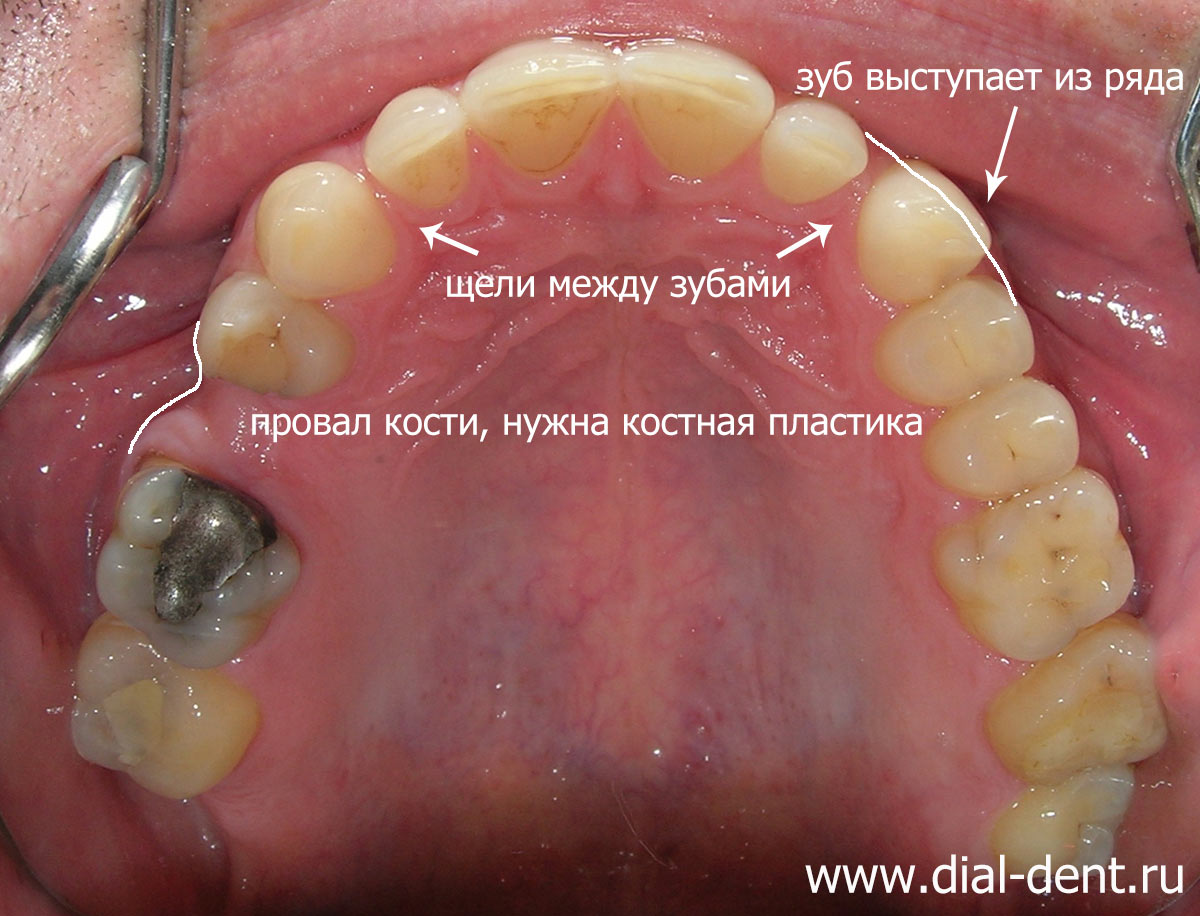UL1BC_healthy: (881, 305, 1036, 402)
UL1M_decay: (945, 479, 1132, 660)
UL2BC_healthy: (933, 382, 1080, 493)
UL2M_decay: (988, 624, 1165, 777)
UL3M_decay: (995, 774, 1134, 852)
ULCI_healthy: (621, 45, 773, 173)
ULC_healthy: (852, 213, 964, 303)
ULLI_healthy: (766, 102, 865, 199)
UR1BC_decay: (205, 277, 344, 391)
UR1M_decay: (100, 468, 291, 665)
UR2BC_decay: (173, 398, 251, 476)
UR2M_decay: (73, 637, 254, 799)
UR3M_decay: (119, 799, 250, 909)
URCI_decay: (465, 40, 615, 176)
URC_healthy: (259, 161, 391, 297)
URLI_healthy: (369, 88, 464, 203)
